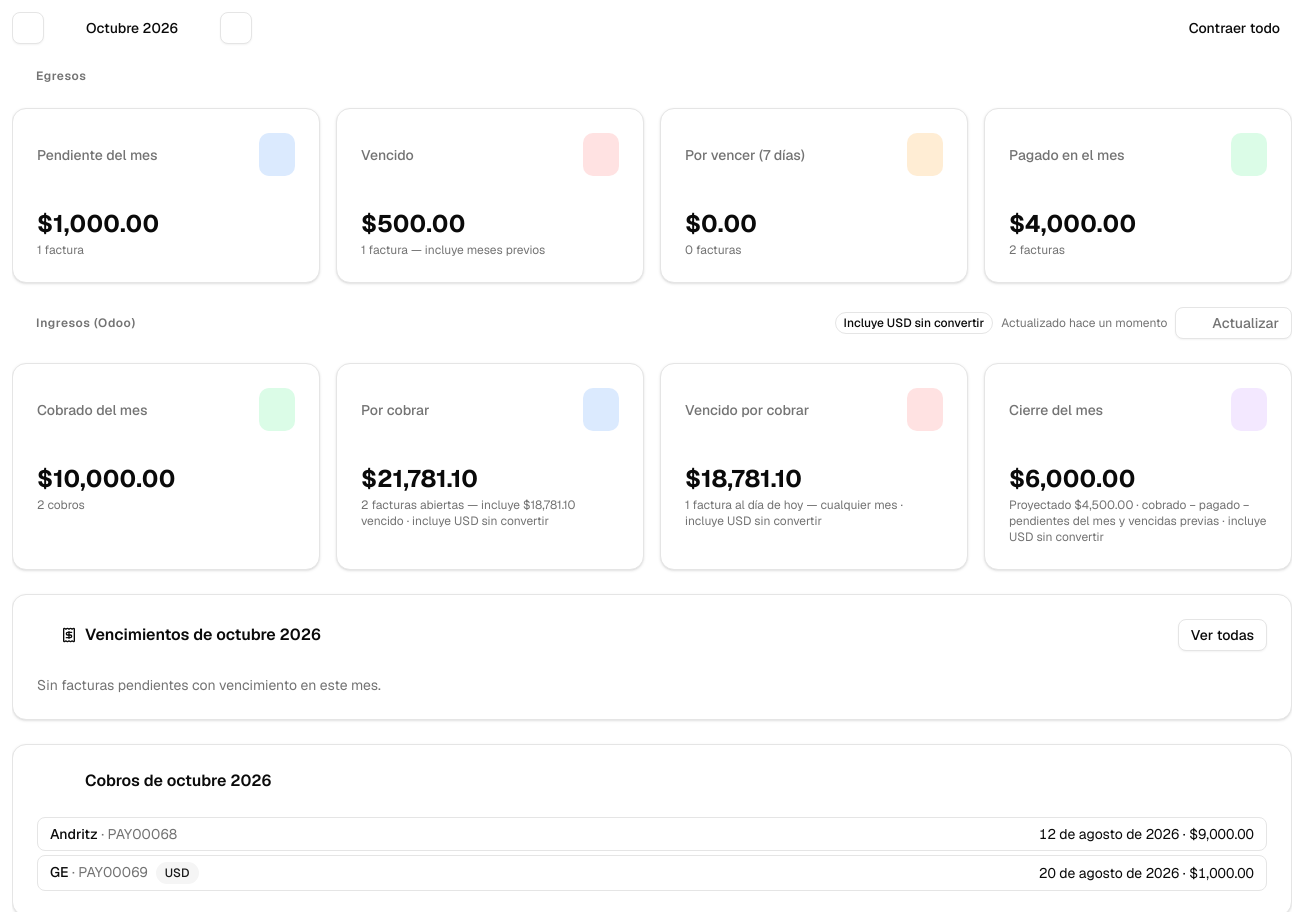
FinanceOverview — apartados colapsables (2026-10-05) › "Contraer todo" deja solo los encabezados y "Expandir todo" los regresa
Click the button "Contraer todo" at (1234, 28), box [1177,12,1292,44]
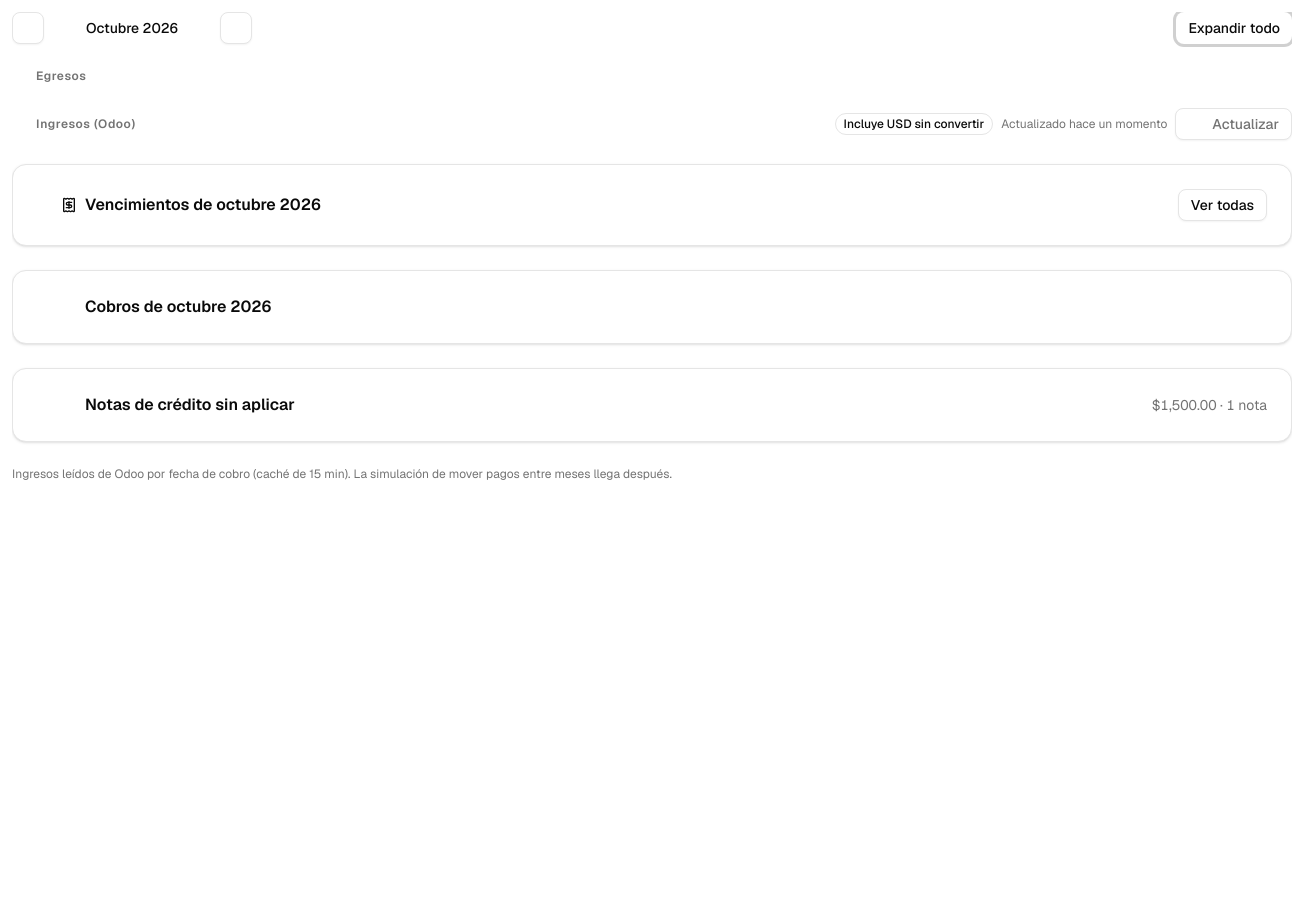
expect the button "Notas de crédito sin aplicar" is shown: met, box [37,393,295,417]
expect the text "Pendiente del mes" is gone: met
expect the text "Cobrado del mes" is gone: met
Click the button "Expandir todo" at (1234, 28), box [1176,12,1292,44]
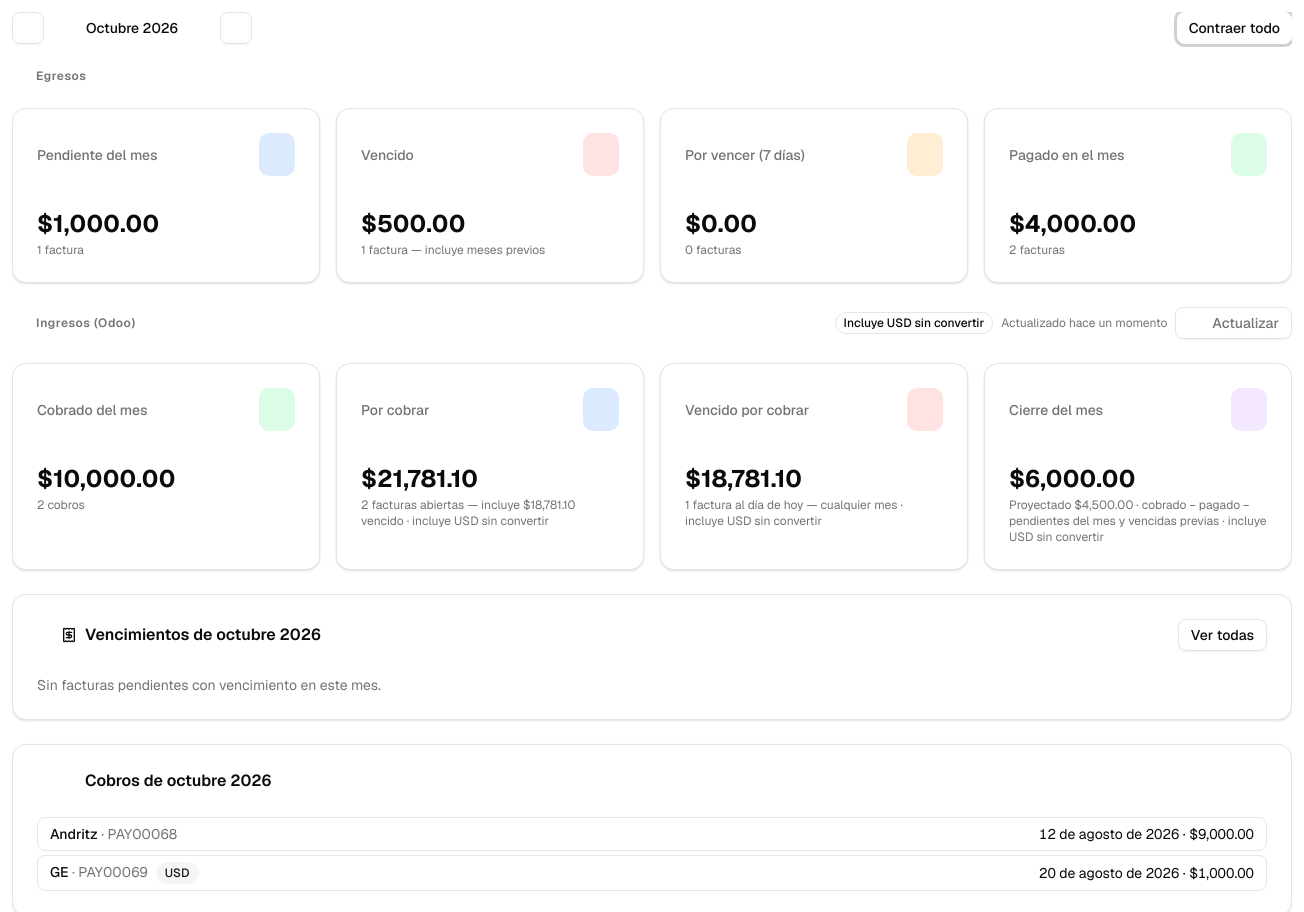
expect the text "Pendiente del mes" is shown: met, box [37,144,158,164]
